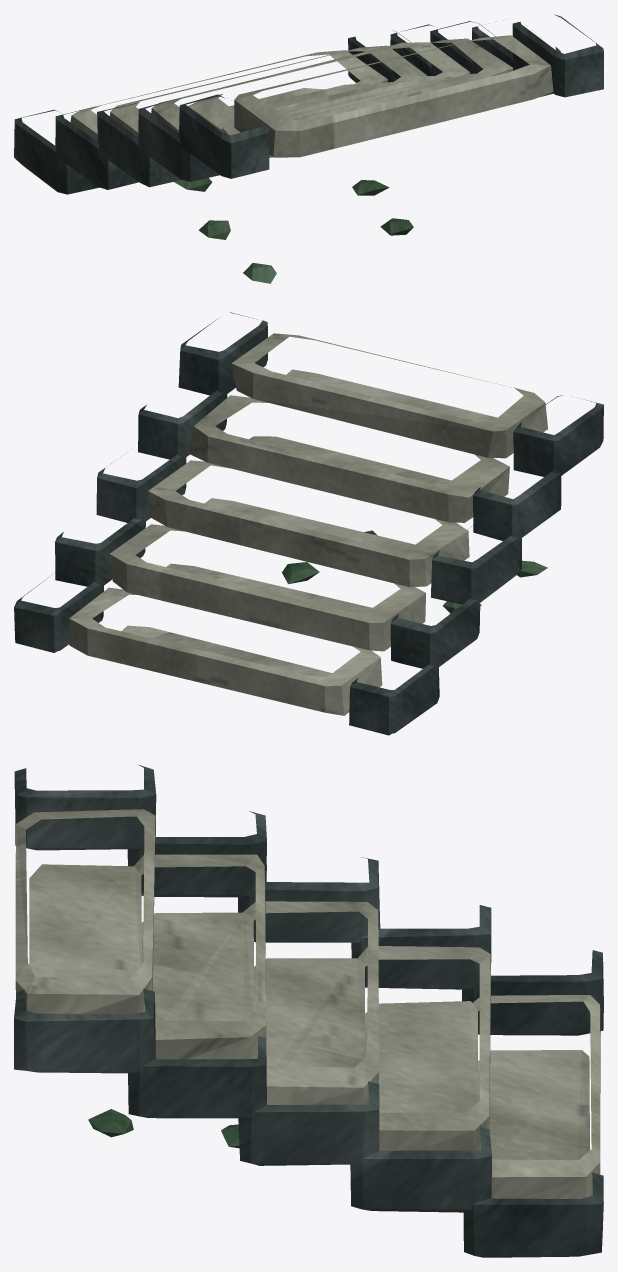
File: 0370_stairs_20.glb
The picture shows the model from 3 angles, top to bottom: view 1: azimuth 30°, elevation 25°; view 2: azimuth 150°, elevation 25°; view 3: azimuth 270°, elevation 25°; orthographic projection. The views are drawn at different scales.
Parts seen in each view (by area): view 1: stone_light, stone_dark, moss; view 2: stone_light, stone_dark, moss; view 3: stone_light, stone_dark, moss.
Boxes of the visible parts, x1,y1,x2,y2 form: stone_light: (70,35,553,157); stone_dark: (14,14,603,194); moss: (174,178,413,283); stone_light: (69,333,547,715); stone_dark: (14,312,603,735); moss: (282,530,547,613); stone_light: (15,809,600,1198); stone_dark: (14,764,603,1257); moss: (88,1109,239,1148).
Size of the model in its own units: 2.36 by 1.07 by 2.32.
Materials: 3 (3 with a texture image).
